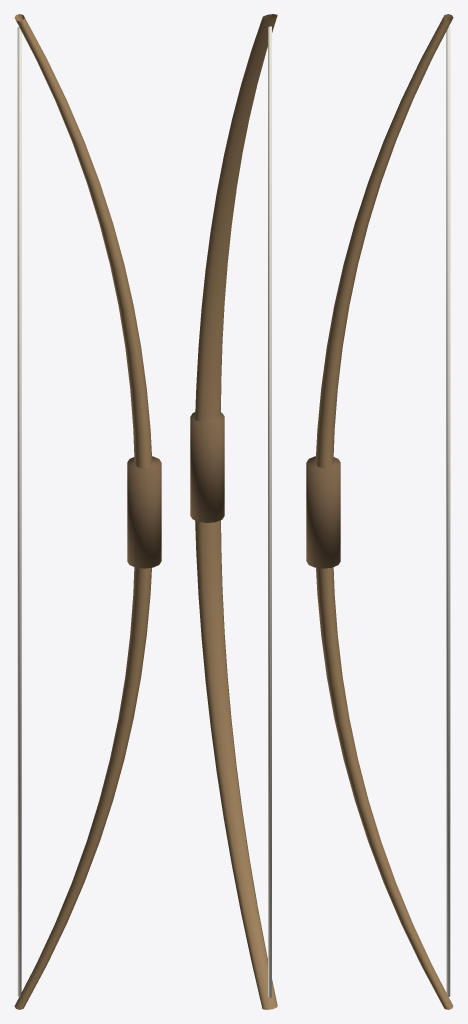
File: bow.glb
The picture shows the model from 3 angles, left to right: view 1: azimuth 90°, elevation 25°; view 2: azimuth 210°, elevation 25°; view 3: azimuth 270°, elevation 25°; orthographic projection.
Visible parts, largest first — view 1: Bow; view 2: Bow; view 3: Bow.
Boxes of the visible parts, x1,y1,x2,y2 form: Bow: [14, 14, 161, 1009]; Bow: [190, 14, 277, 1009]; Bow: [306, 14, 453, 1009].
Size of the model in its own units: 0.044 by 1.4 by 0.1887.
